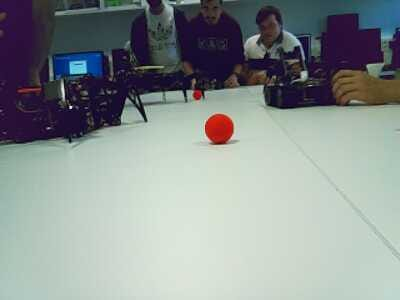bola_cerca: (203, 112, 237, 145)
bola_lejos: (192, 89, 202, 101)
hexapodo_ajeno: (0, 85, 95, 132), (120, 63, 175, 98)
